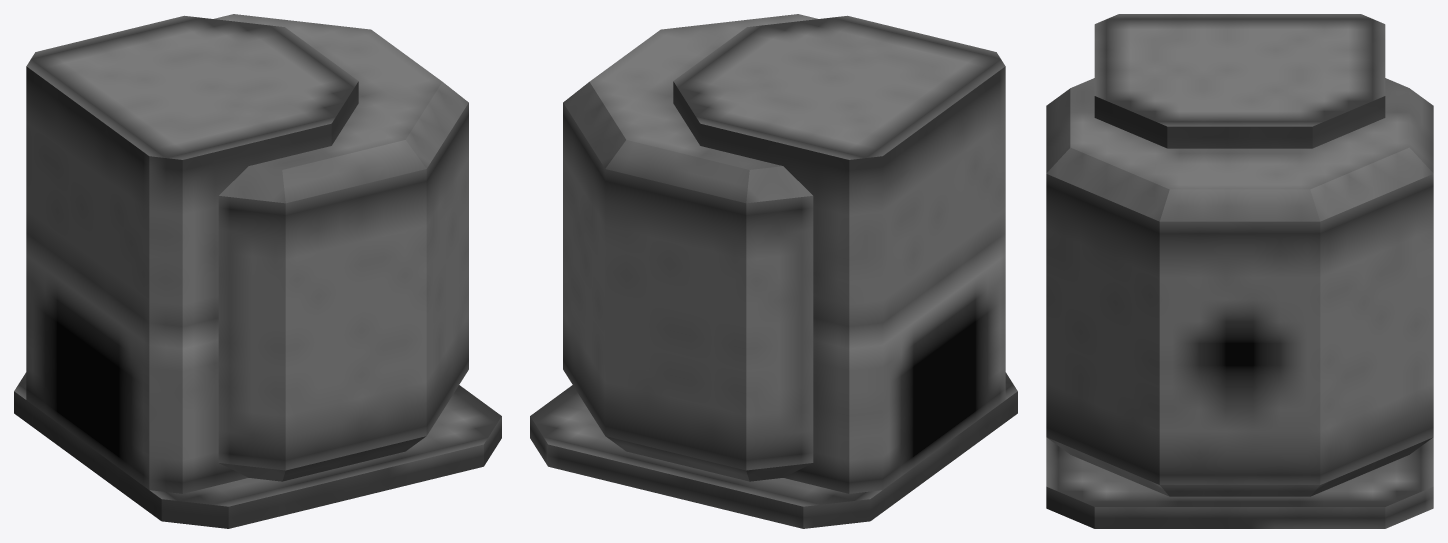
File: air_compressor.obj
3 renders of one model, left to right at view 1: azimuth 30°, elevation 25°; view 2: azimuth 150°, elevation 25°; view 3: azimuth 270°, elevation 25°, orthographic.
Parts seen in each view (by area): view 1: Group_002, Group_001, Group_003; view 2: Group_002, Group_001, Group_003; view 3: Group_001, Group_002, Group_003.
Boxes of the visible parts, x1,y1,x2,y2 form: Group_002: (26, 15, 358, 493); Group_001: (214, 14, 468, 481); Group_003: (14, 372, 501, 528); Group_002: (673, 15, 1005, 493); Group_001: (563, 14, 817, 481); Group_003: (530, 372, 1017, 528); Group_001: (1046, 78, 1433, 496); Group_002: (1094, 14, 1385, 148); Group_003: (1046, 437, 1433, 528).
Size of the model in its own units: 16 by 16 by 16.
